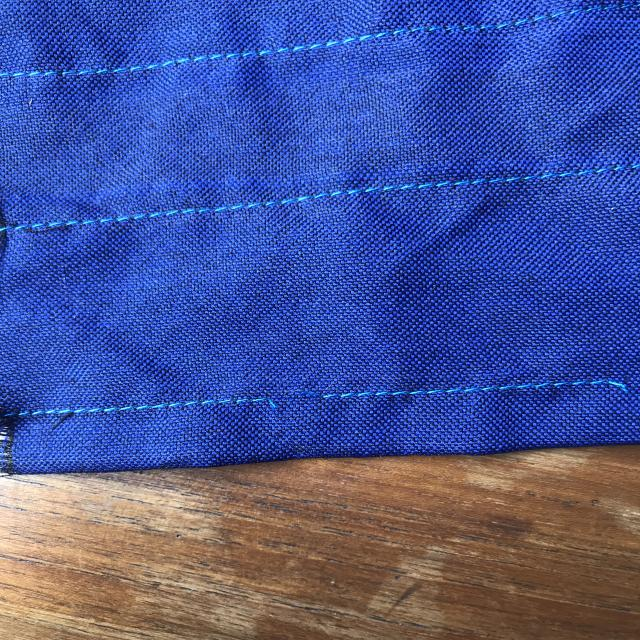broken: (250, 386, 363, 426)
good: (169, 198, 263, 221)
